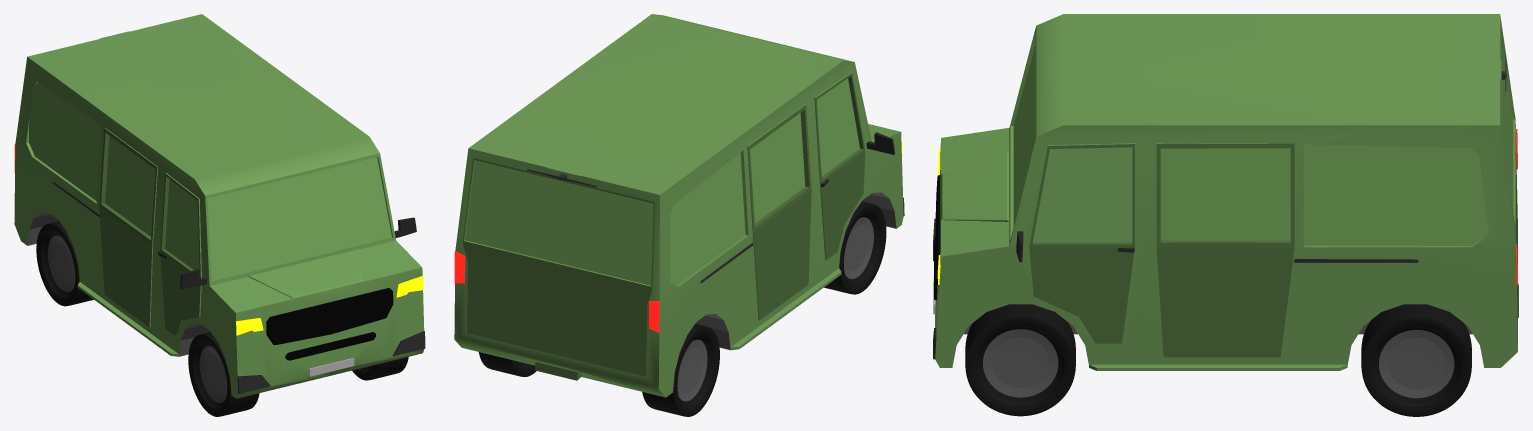
Rendered from traffic_van_low_poly_-_rigged.glb.
3 renders of one model, left to right at view 1: azimuth 30°, elevation 25°; view 2: azimuth 150°, elevation 25°; view 3: azimuth 270°, elevation 25°, orthographic. The views are drawn at different scales.
Parts seen in each view (by area): view 1: TrafficVan_Body_3, TrafficVan_Body_Tire_FR_7, TrafficVan_Body_Tire_BR_11, TrafficVan_Body_Tire_FL_5; view 2: TrafficVan_Body_3, TrafficVan_Body_Tire_BR_11, TrafficVan_Body_Tire_FR_7, TrafficVan_Body_Tire_BL_9; view 3: TrafficVan_Body_3, TrafficVan_Body_Tire_BL_9, TrafficVan_Body_Tire_FL_5.
Part boxes in pixels (x1,y1,x2,y2): TrafficVan_Body_3: (14, 14, 425, 398); TrafficVan_Body_Tire_FR_7: (188, 332, 259, 416); TrafficVan_Body_Tire_BR_11: (36, 221, 93, 306); TrafficVan_Body_Tire_FL_5: (352, 357, 408, 380); TrafficVan_Body_3: (454, 14, 904, 397); TrafficVan_Body_Tire_BR_11: (642, 323, 719, 416); TrafficVan_Body_Tire_FR_7: (824, 201, 886, 294); TrafficVan_Body_Tire_BL_9: (478, 352, 536, 376); TrafficVan_Body_3: (933, 14, 1518, 370); TrafficVan_Body_Tire_BL_9: (1361, 304, 1471, 416); TrafficVan_Body_Tire_FL_5: (965, 304, 1075, 416).
Size of what is drawn, in the model's own units: 2.22 by 2.01 by 3.67.
